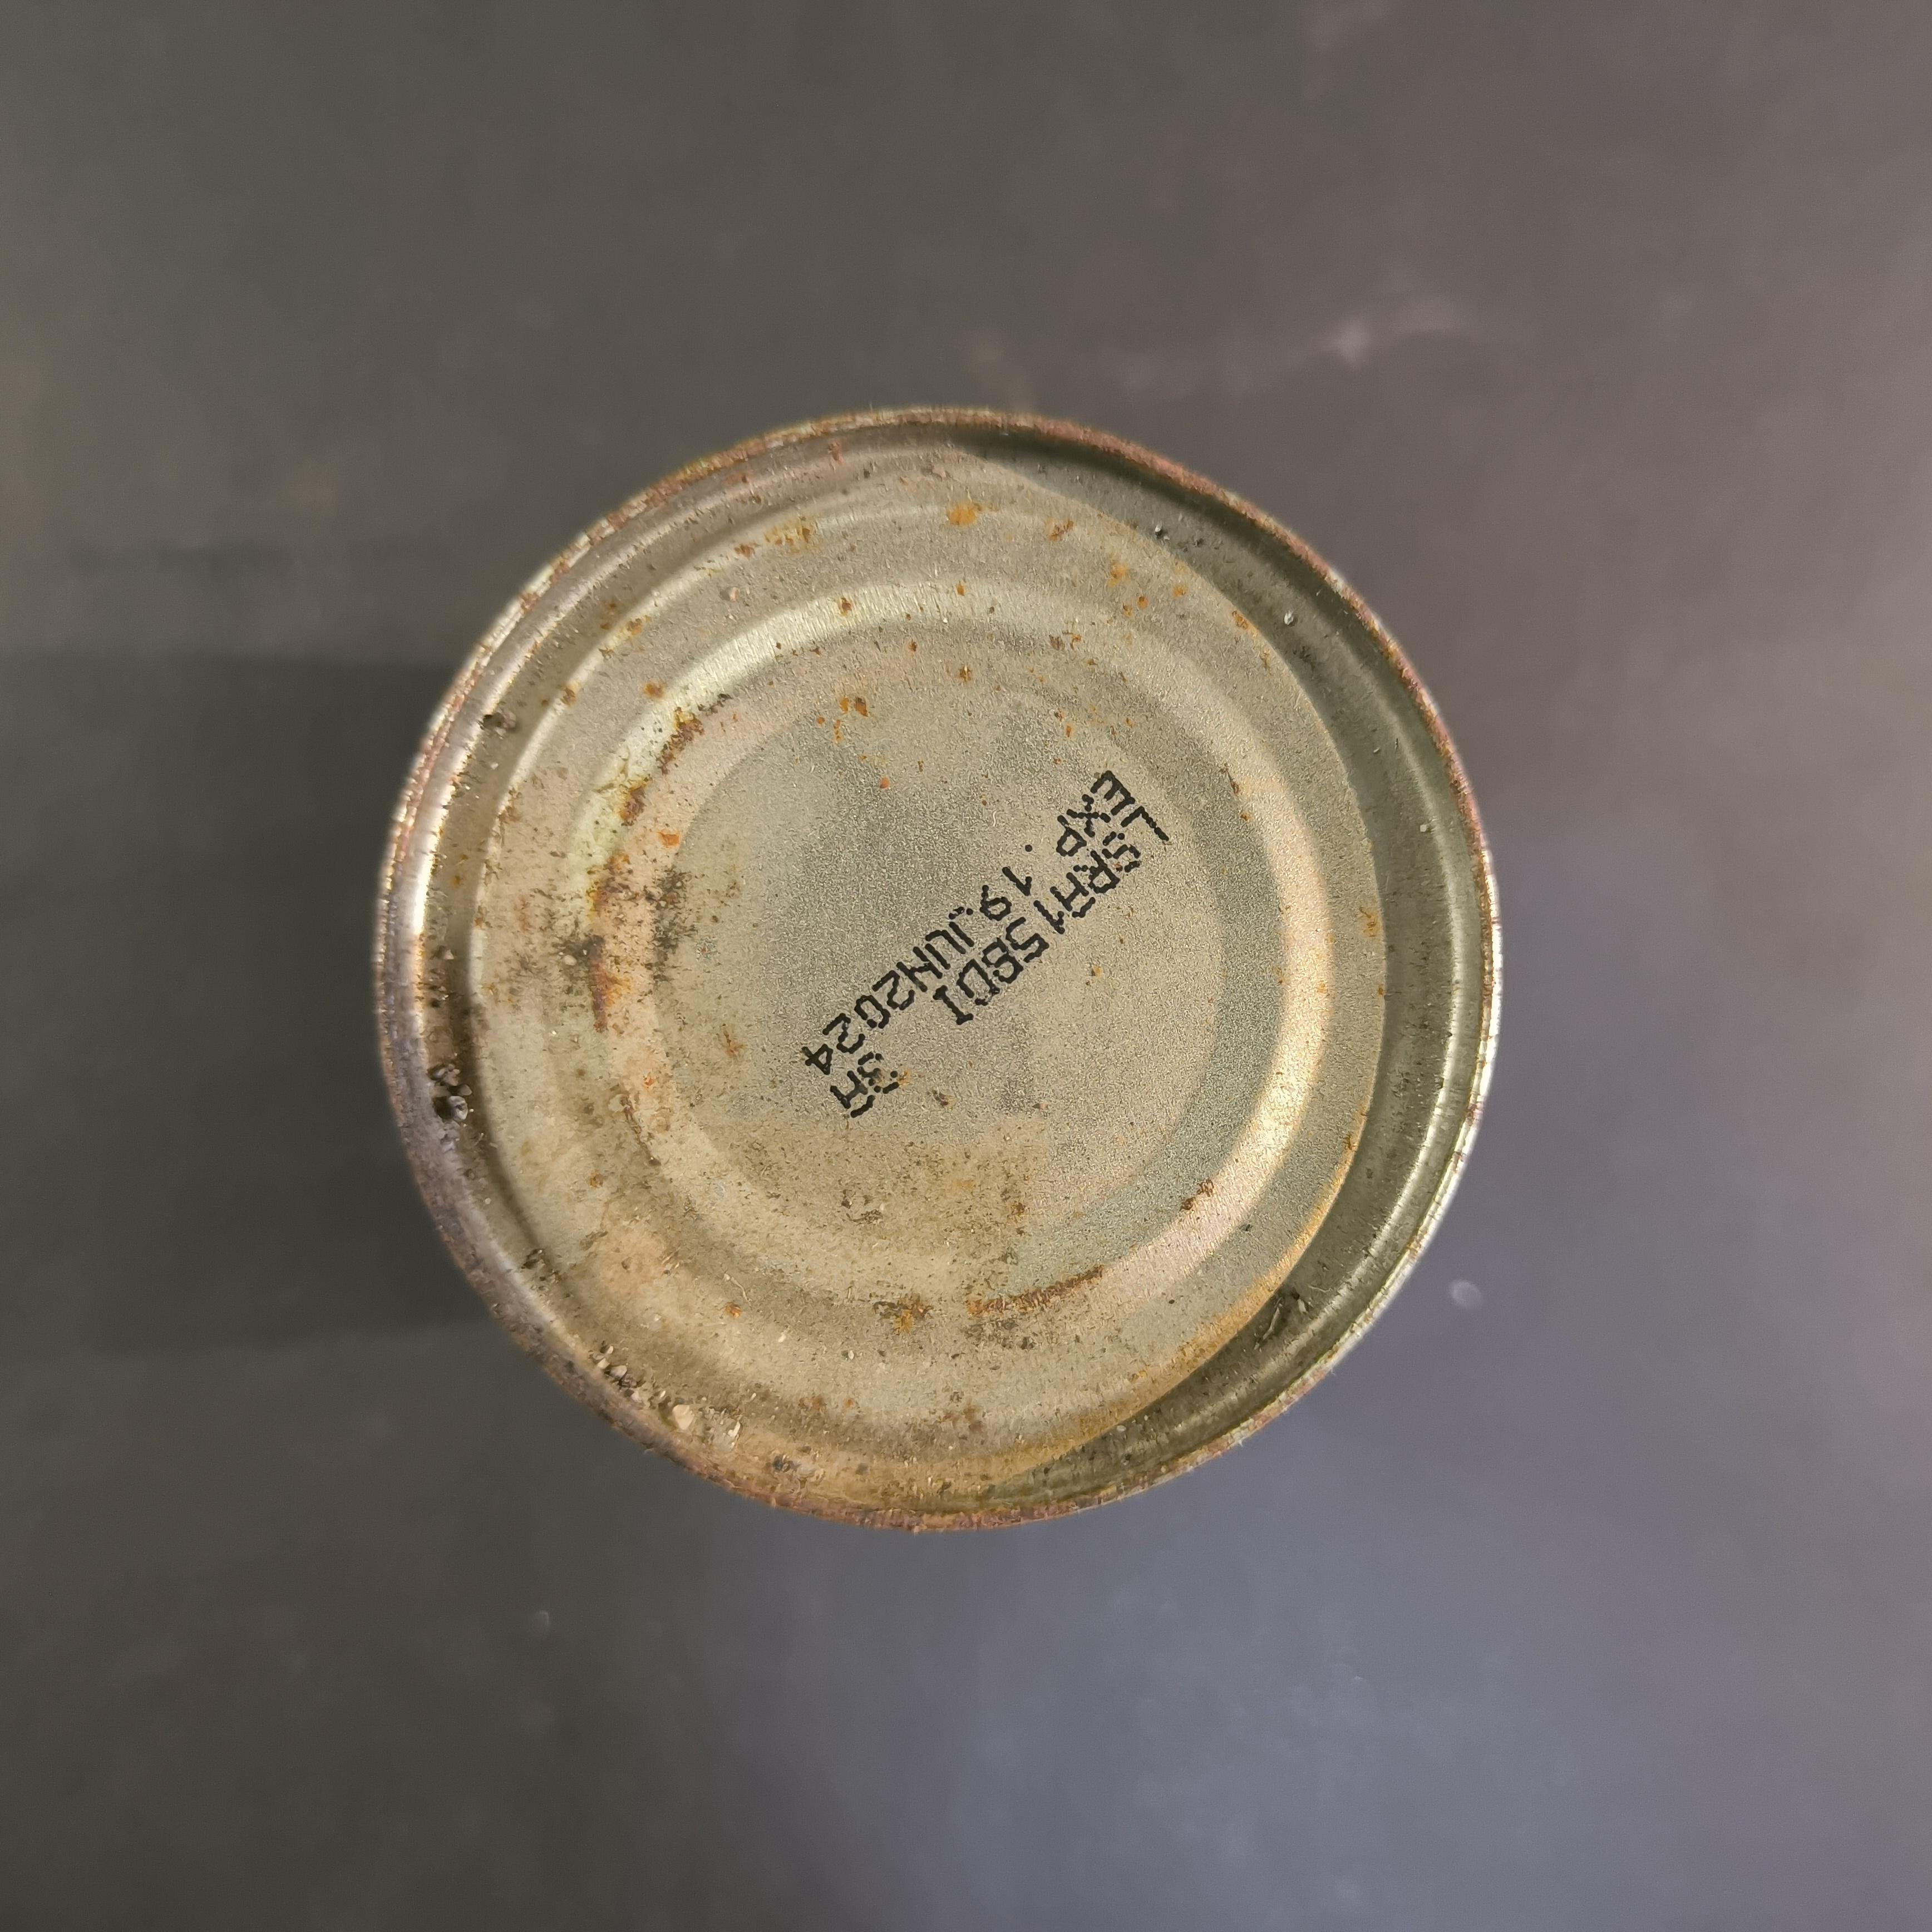Minor Defect: (371, 401, 1509, 1530)
